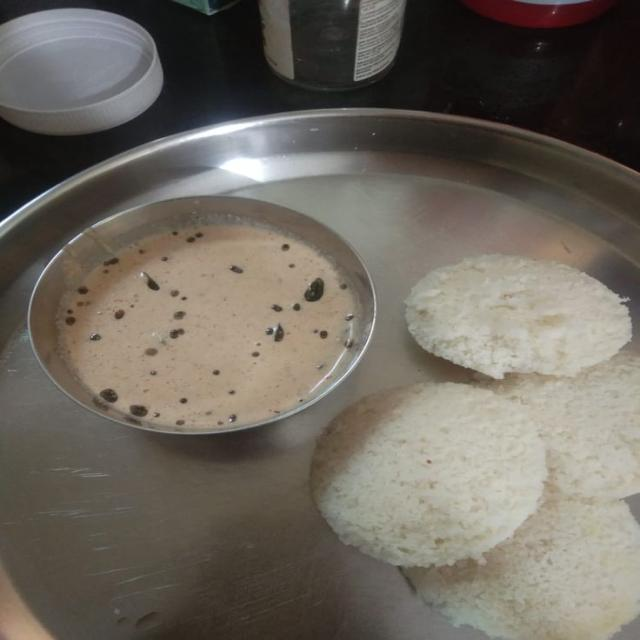Idly: (290, 377, 573, 581), (406, 240, 639, 392), (408, 498, 640, 640), (519, 348, 640, 492)
